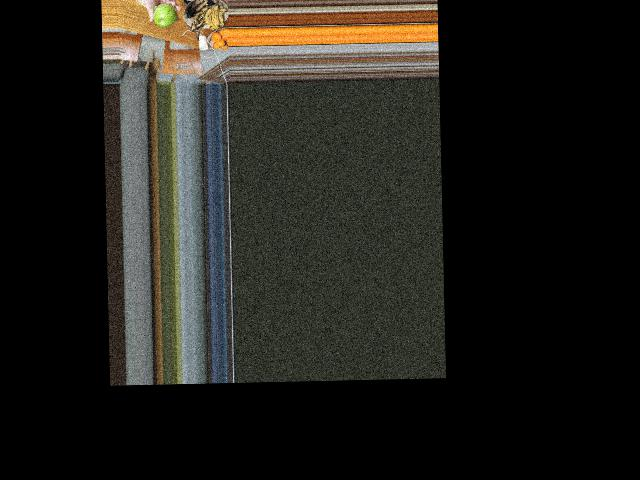apple: (152, 1, 178, 29)
